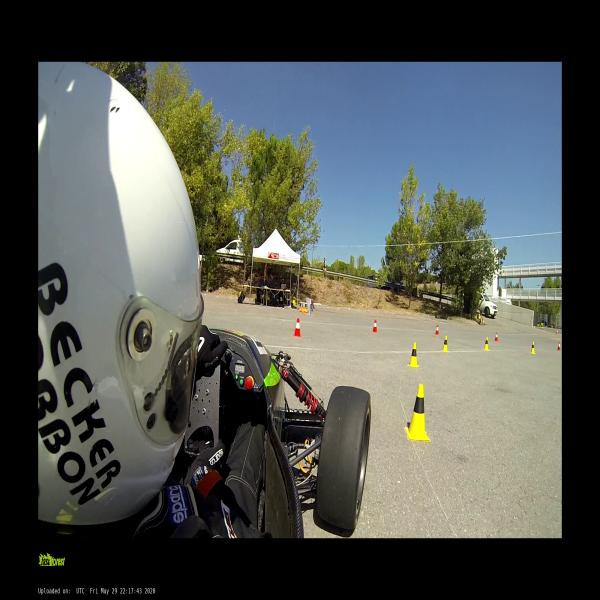orange_cone: (294, 318, 302, 337), (372, 318, 378, 334), (435, 325, 439, 336), (494, 333, 498, 342), (557, 342, 561, 351), (542, 326, 544, 331), (556, 330, 558, 334)
yellow_cone: (405, 384, 431, 444), (408, 342, 419, 368), (441, 335, 449, 353), (483, 337, 490, 351), (530, 341, 536, 354)
